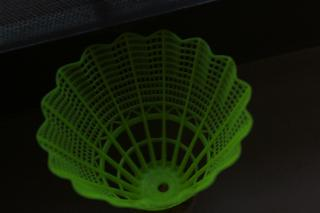shuttlecock: (36, 32, 252, 211)
